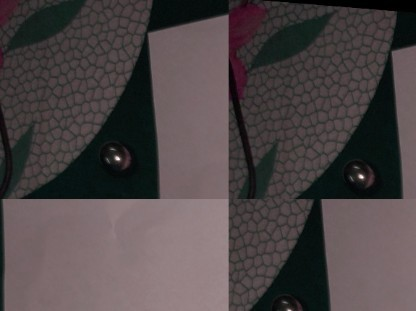ironball: (93, 139, 136, 172), (342, 156, 379, 189)
